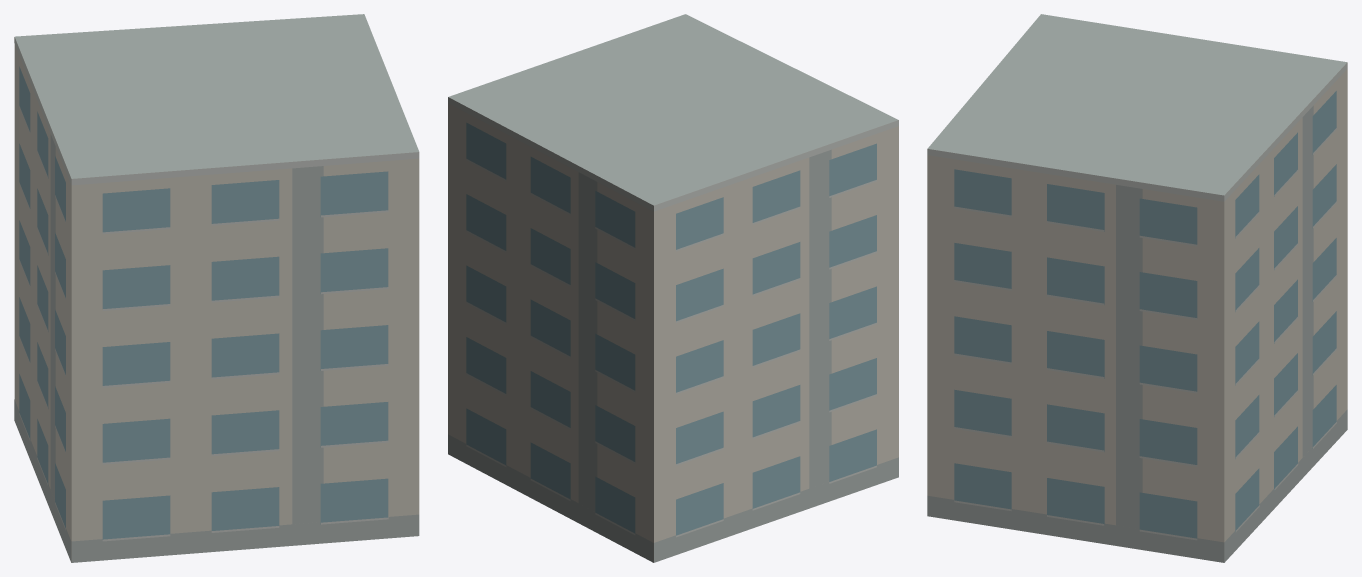
File: survey-upis-32884236.glb
3 views of the same model, side by side, from view 1: azimuth 30°, elevation 25°; view 2: azimuth 150°, elevation 25°; view 3: azimuth 270°, elevation 25° (orthographic). The views are drawn at different scales.
Visible parts, largest first — view 1: survey-upis-32884236.tmp; view 2: survey-upis-32884236.tmp; view 3: survey-upis-32884236.tmp.
Part boxes in pixels (x1,y1,x2,y2): survey-upis-32884236.tmp: [14, 14, 419, 562]; survey-upis-32884236.tmp: [448, 14, 898, 562]; survey-upis-32884236.tmp: [927, 14, 1347, 562].
Size of the model in its own units: 15.05 by 14.2 by 14.73.
